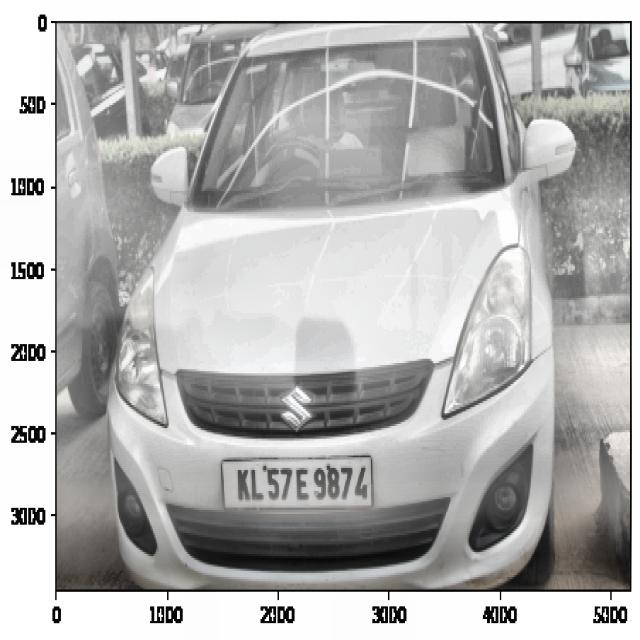license_plate: (229, 459, 374, 514)
